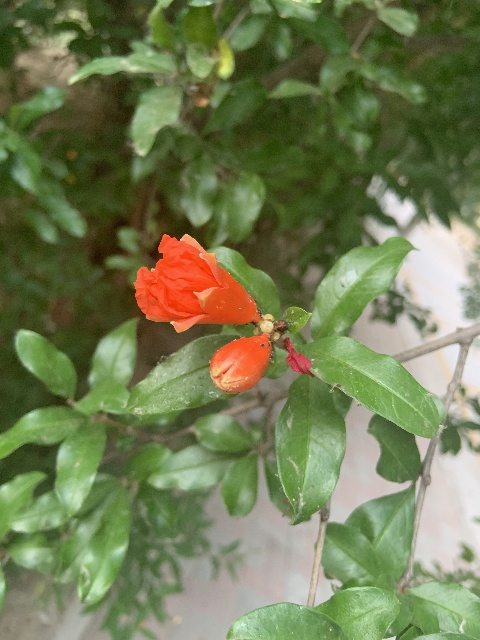bud: (209, 334, 270, 394)
flower: (133, 233, 260, 336)
